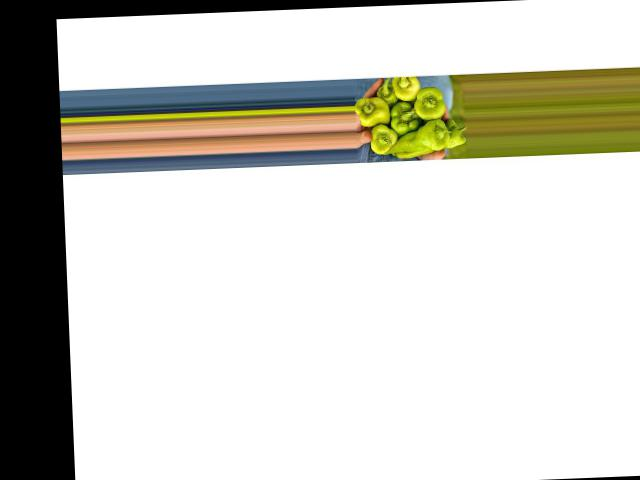bell_pepper: (355, 93, 392, 125)
